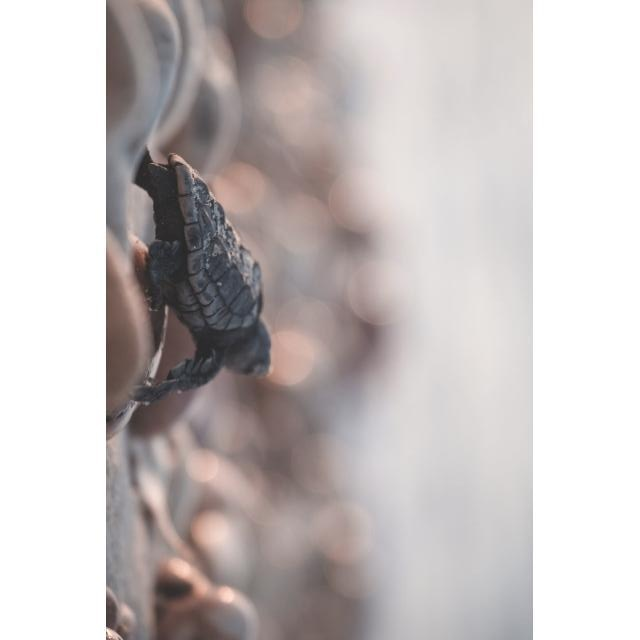turtle: (130, 150, 274, 406)
